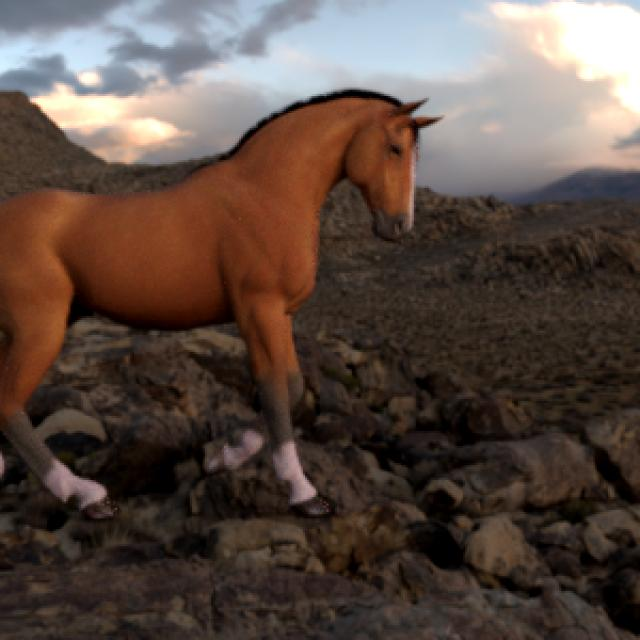horse: (0, 90, 439, 518)
